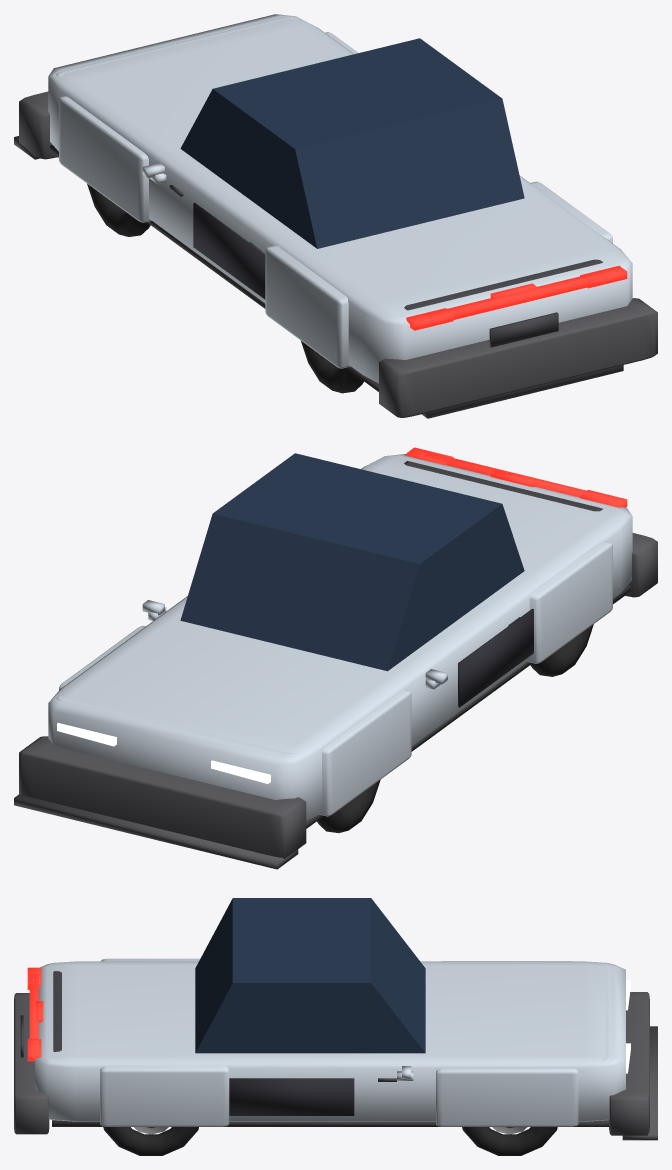
File: sedan.glb
3 views of the same model, one above another, from view 1: azimuth 30°, elevation 25°; view 2: azimuth 150°, elevation 25°; view 3: azimuth 270°, elevation 25° (orthographic). The views are drawn at different scales.
Visible parts, largest first — view 1: Body, GlassCanopy, RearBumper, Fender-1F, Fender-1R, Door-1, red_glass, FrontBumper, Plate, Diffuser, Tire3, Tire1 (+5 smaller); view 2: Body, GlassCanopy, FrontBumper, Fender-1F, Fender-1R, Door-1, Splitter, RearBumper, Tire1, red_glass, Tire3, SpoilerLip (+2 smaller); view 3: Body, GlassCanopy, Fender+1F, Fender+1R, Door+1, FrontBumper, RearBumper, Tire0, Tire2, UnderBody, Splitter, SpoilerLip (+3 smaller).
Part boxes in pixels (left/top/right/bottom): Body: left=48, top=14, right=632, bottom=383; GlassCanopy: left=180, top=38, right=524, bottom=248; RearBumper: left=379, top=298, right=657, bottom=417; Fender-1F: left=59, top=96, right=151, bottom=222; Fender-1R: left=265, top=245, right=350, bottom=368; Door-1: left=193, top=202, right=265, bottom=299; red_glass: left=423, top=270, right=608, bottom=319; FrontBumper: left=19, top=91, right=57, bottom=159; Plate: left=489, top=312, right=558, bottom=347; Diffuser: left=422, top=365, right=623, bottom=418; Tire3: left=301, top=341, right=363, bottom=393; Tire1: left=87, top=183, right=150, bottom=236; Body: left=48, top=454, right=632, bottom=820; GlassCanopy: left=180, top=453, right=524, bottom=671; FrontBumper: left=19, top=736, right=306, bottom=858; Fender-1F: left=319, top=689, right=411, bottom=816; Fender-1R: left=527, top=541, right=612, bottom=663; Door-1: left=458, top=609, right=533, bottom=707; Splitter: left=14, top=794, right=298, bottom=869; RearBumper: left=625, top=533, right=657, bottom=597; Tire1: left=317, top=780, right=380, bottom=833; red_glass: left=423, top=452, right=610, bottom=499; Tire3: left=530, top=624, right=593, bottom=676; SpoilerLip: left=404, top=461, right=602, bottom=511; Body: left=35, top=961, right=625, bottom=1121; GlassCanopy: left=195, top=898, right=425, bottom=1053; Fender+1F: left=436, top=1068, right=578, bottom=1126; Fender+1R: left=100, top=1065, right=229, bottom=1126; Door+1: left=229, top=1078, right=354, bottom=1115; FrontBumper: left=609, top=992, right=649, bottom=1135; RearBumper: left=14, top=993, right=49, bottom=1134; Tire0: left=462, top=1127, right=557, bottom=1155; Tire2: left=103, top=1127, right=198, bottom=1155; UnderBody: left=52, top=1120, right=608, bottom=1126; Splitter: left=622, top=1026, right=657, bottom=1140; SpoilerLip: left=53, top=971, right=61, bottom=1051.
Bounding box in the file's own units: 2.14 × 1.38 × 4.74.
